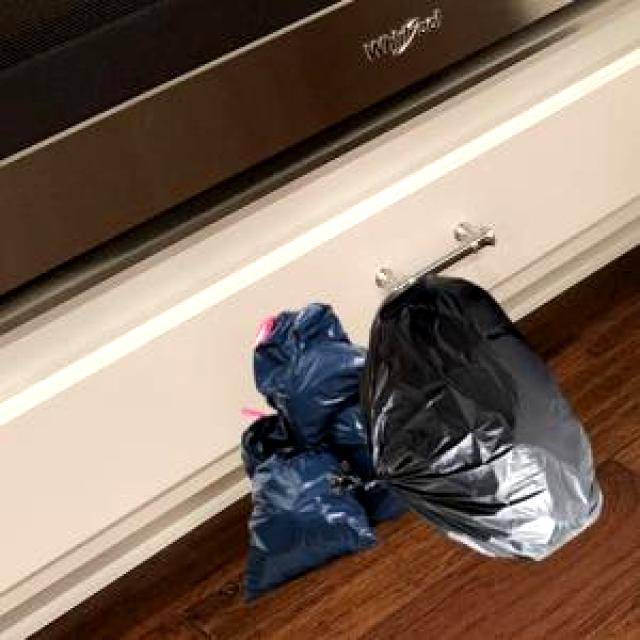Garbage_Bag: (324, 272, 598, 558), (238, 300, 406, 598)
